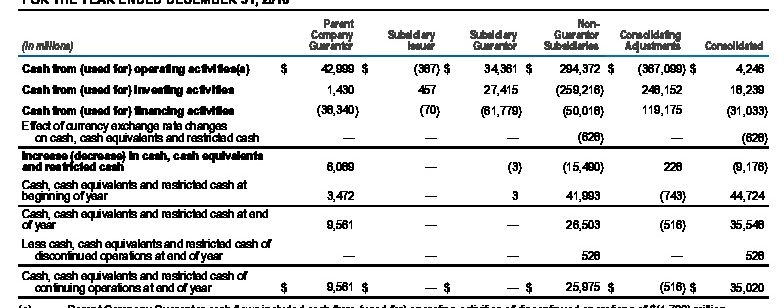table: (0, 0, 784, 308)
